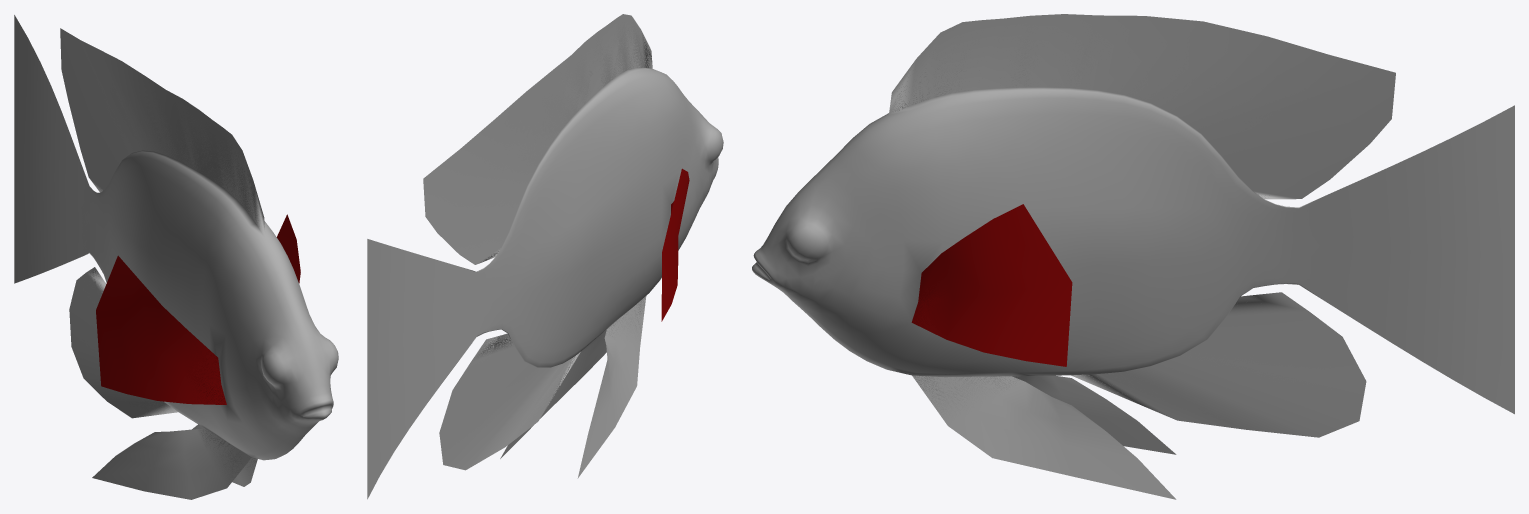
File: Pomacentridae_B.fbx
3 renders of one model, left to right at view 1: azimuth 30°, elevation 25°; view 2: azimuth 150°, elevation 25°; view 3: azimuth 270°, elevation 25°, orthographic. The views are drawn at different scales.
Parts seen in each view (by area): view 1: Pomacentridae_B_LOD0; view 2: Pomacentridae_B_LOD0; view 3: Pomacentridae_B_LOD0.
Part boxes in pixels (x1,y1,x2,y2): Pomacentridae_B_LOD0: [14, 15, 338, 499]; Pomacentridae_B_LOD0: [367, 14, 723, 499]; Pomacentridae_B_LOD0: [752, 14, 1514, 499].
Size of what is drawn, in the model's own units: 0.305 by 0.6939 by 1.03.
